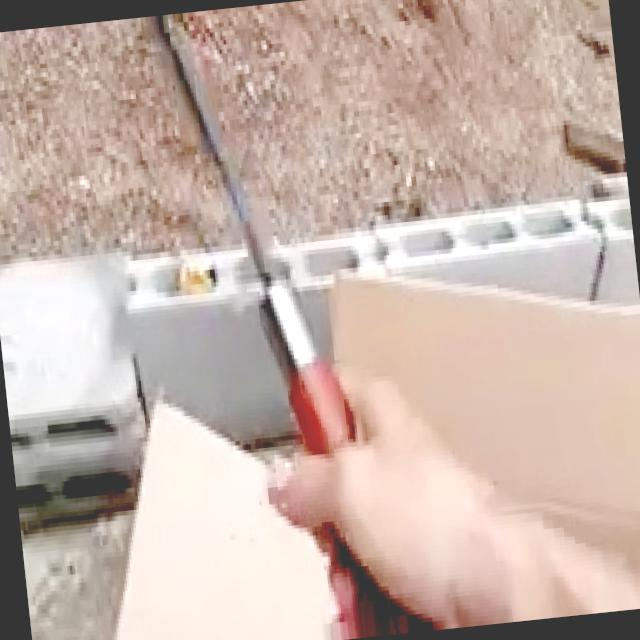eto: (151, 14, 453, 632)
